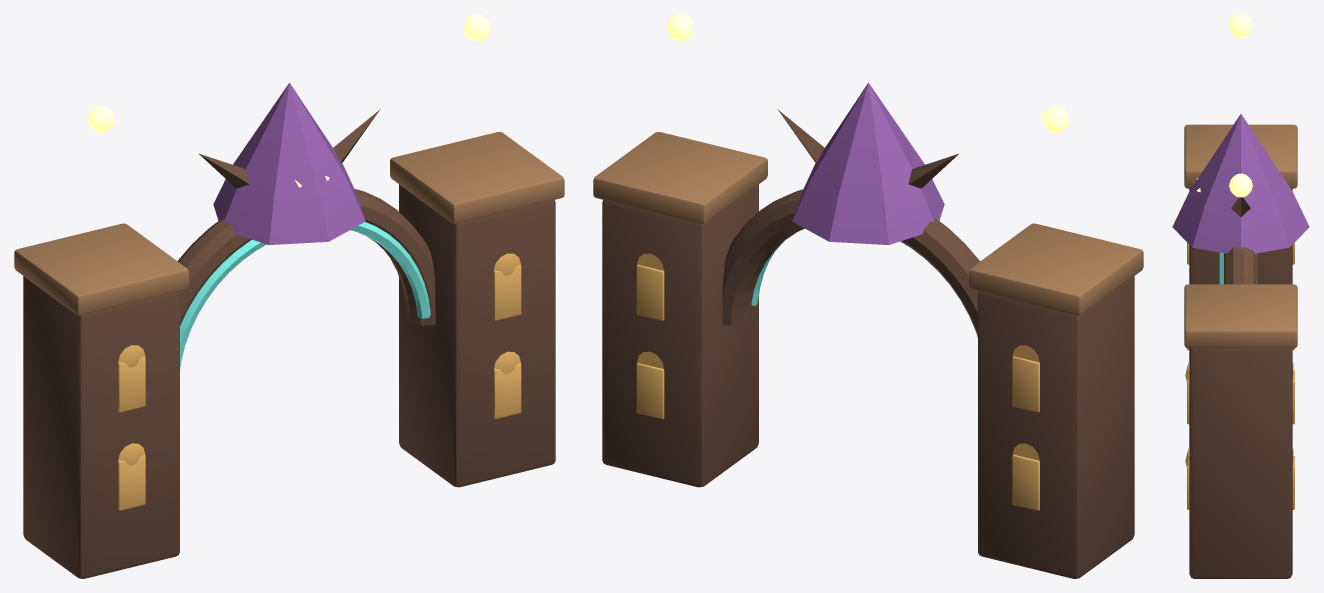
Rendered from Carnival_GothicGate.fbx.
3 renders of one model, left to right at view 1: azimuth 30°, elevation 25°; view 2: azimuth 150°, elevation 25°; view 3: azimuth 270°, elevation 25°, orthographic. The views are drawn at different scales.
Visible parts, largest first — view 1: Carnival_GothicGate; view 2: Carnival_GothicGate; view 3: Carnival_GothicGate.
Boxes of the visible parts, x1,y1,x2,y2 form: Carnival_GothicGate: [14, 14, 564, 578]; Carnival_GothicGate: [593, 14, 1143, 578]; Carnival_GothicGate: [1172, 14, 1309, 578].
Bounding box in the file's own units: 28.6 × 24.7 × 8.
